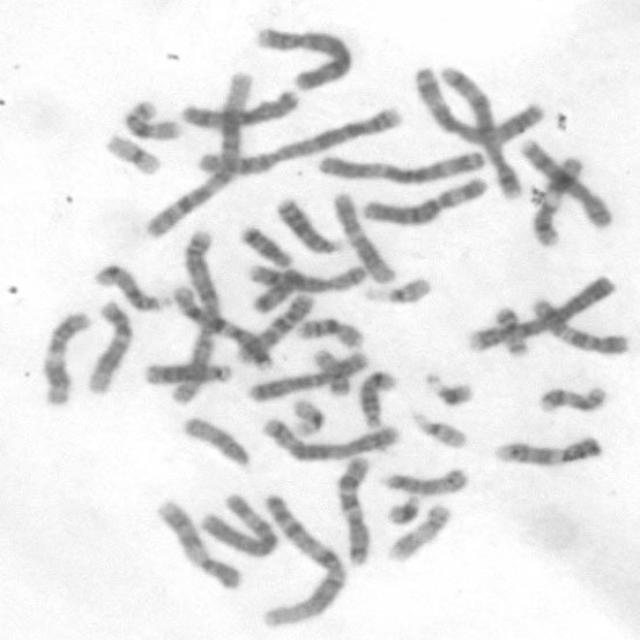A1: (142, 71, 254, 240), (261, 494, 350, 628)
A2: (198, 106, 403, 178), (171, 229, 224, 405)
A3: (412, 64, 546, 146), (316, 148, 488, 184)
B4: (464, 275, 618, 354), (256, 25, 354, 92)
B5: (439, 65, 526, 200), (260, 417, 401, 466)
C10: (530, 294, 632, 357), (234, 293, 316, 367)
C11: (40, 309, 91, 406), (532, 154, 584, 247)
C12: (333, 191, 397, 285), (84, 300, 135, 394)
C6: (361, 176, 492, 228), (195, 492, 280, 558)
C7: (171, 285, 275, 372), (335, 456, 373, 571)
C8: (520, 137, 613, 229), (250, 262, 366, 293)
C9: (156, 496, 243, 590), (490, 434, 604, 468)
D13: (278, 197, 348, 254), (142, 362, 232, 387)
D14: (94, 261, 173, 312), (357, 370, 397, 430)
D15: (182, 414, 252, 467), (382, 467, 468, 498)
E16: (122, 99, 182, 142), (296, 318, 362, 350)
E17: (385, 504, 454, 566), (537, 386, 608, 415)
E18: (250, 267, 302, 317), (242, 224, 292, 268)
F19: (105, 131, 162, 177), (291, 398, 326, 438)
F20: (312, 347, 352, 397), (495, 305, 529, 355)
G21: (422, 372, 477, 408), (384, 493, 424, 528)
G22: (409, 409, 468, 450), (365, 276, 433, 306)
X: (248, 350, 371, 403), (179, 88, 300, 130)
